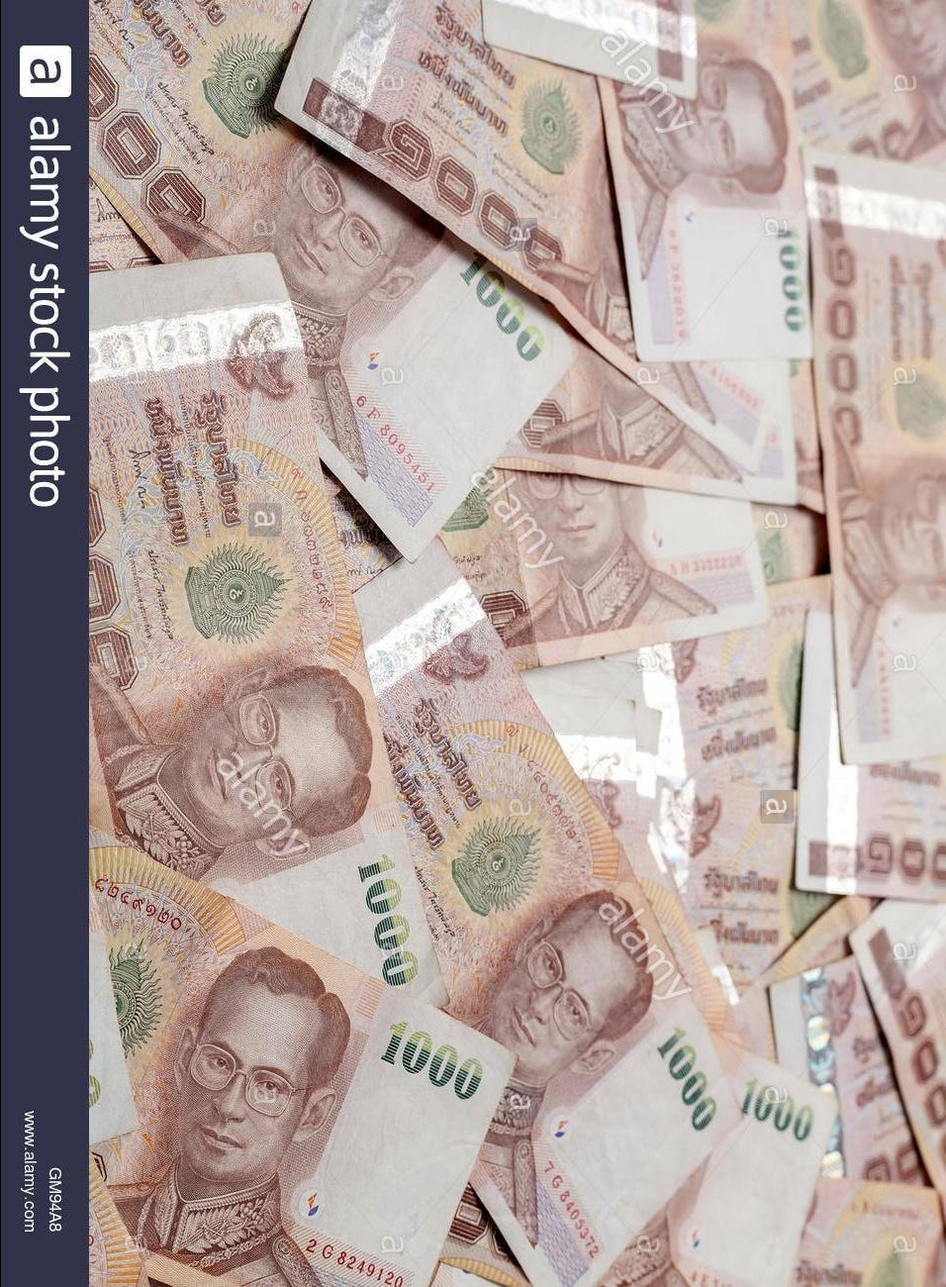1000BahtTai: (86, 371, 433, 1053)
